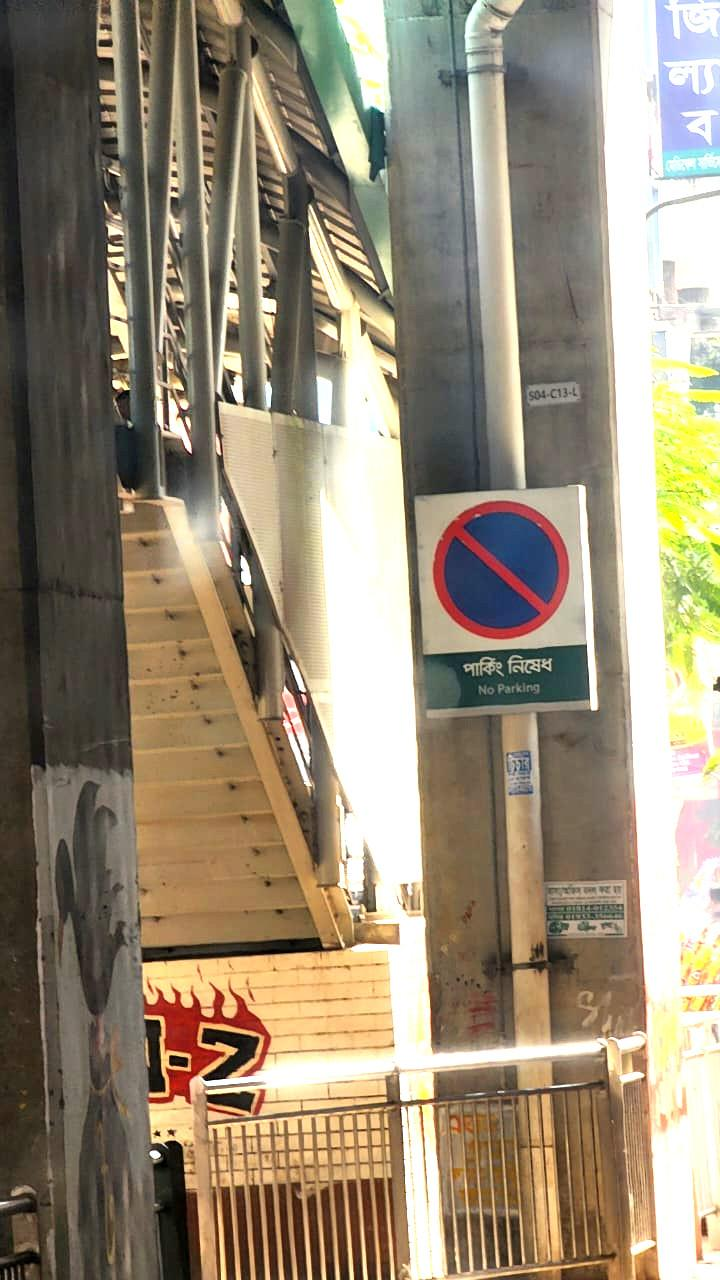No Parking: (396, 456, 604, 720)
